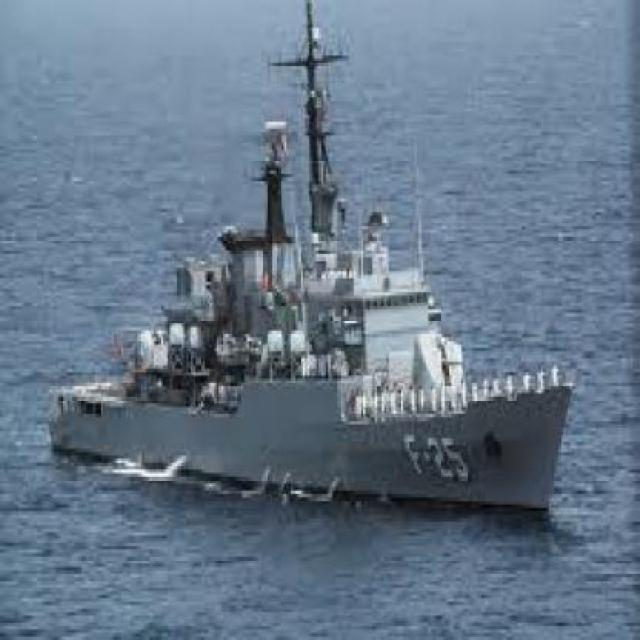warship2: (22, 15, 606, 558)
